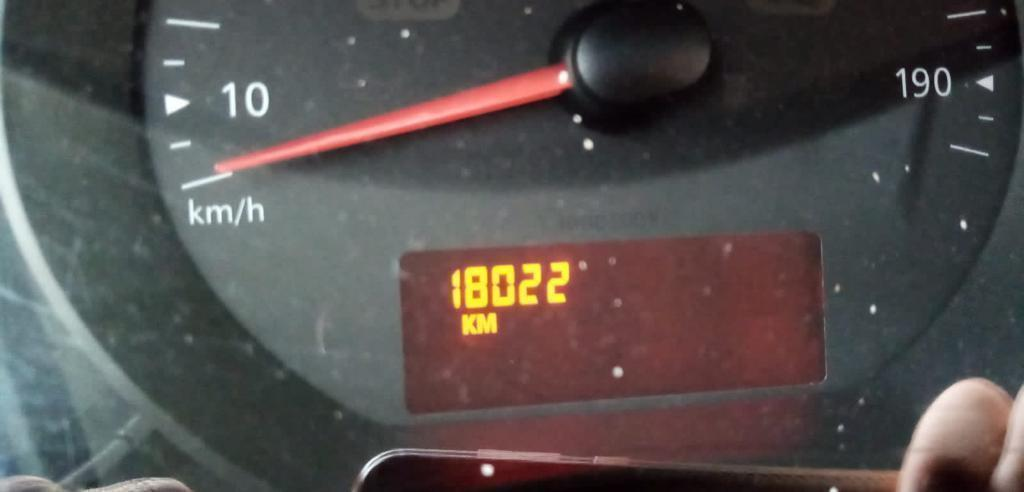0: (490, 261, 516, 308)
1: (446, 264, 462, 313)
2: (546, 258, 574, 305), (518, 259, 544, 307)
8: (462, 264, 488, 308)
X: (477, 312, 498, 336), (460, 312, 477, 336)
odometer: (396, 226, 833, 418)
